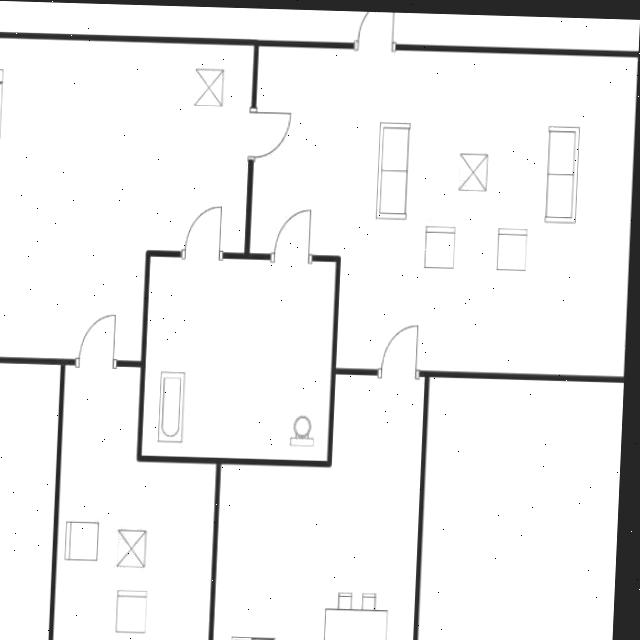room: (247, 45, 637, 376), (0, 38, 254, 363), (213, 367, 425, 640), (53, 363, 220, 640), (142, 255, 336, 460)
